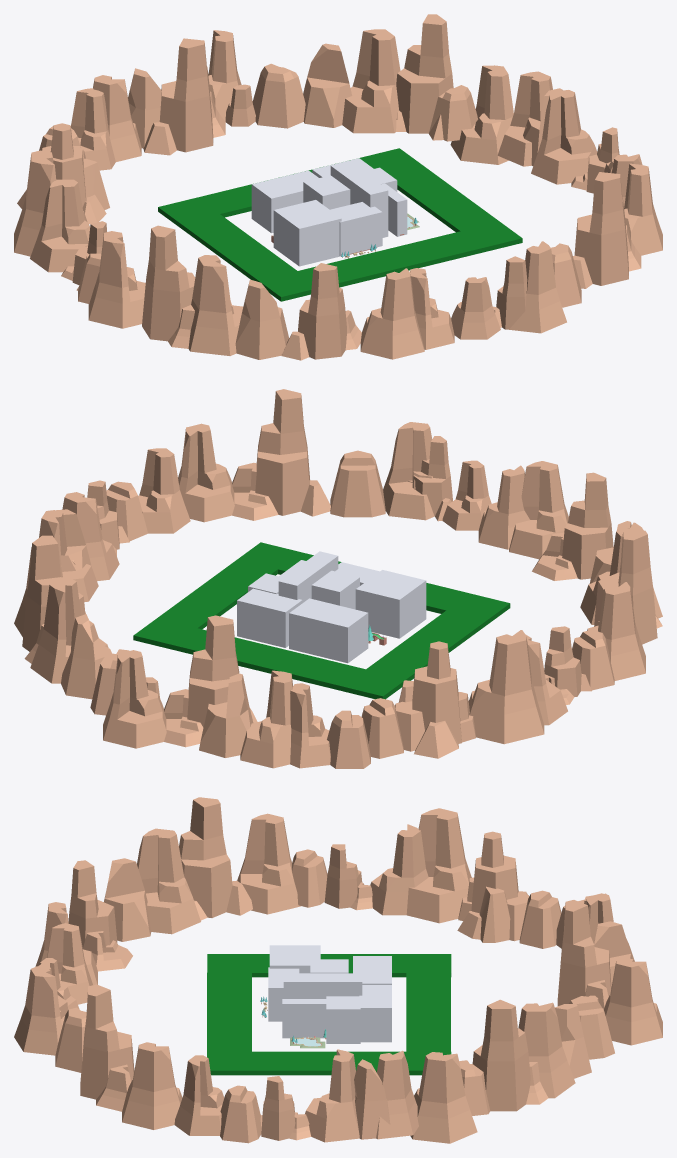
File: forest-server.glb
3 views of the same model, one above another, from view 1: azimuth 30°, elevation 25°; view 2: azimuth 150°, elevation 25°; view 3: azimuth 270°, elevation 25° (orthographic). The views are drawn at different scales.
Parts seen in each view (by area): view 1: rock_tallA_7, instanced_trees, rock_tallA_6, instanced_trees_2, rock_tallA_1, rock_tallA_5, rock_tallH_7, rock_tallA_4, rock_tallH_5, rock_tallH_12, instanced_trees_1, rock_tallH_6 (+33 smaller); view 2: rock_tallA_6, rock_tallB, rock_tallH_9, instanced_trees, instanced_trees_2, rock_tallA_7, rock_tallA_4, rock_tallH_16, bounds8, rock_tallH_15, instanced_trees_3, rock_tallH_3 (+32 smaller); view 3: rock_tallA_5, rock_tallB, rock_tallA_1, rock_tallH_9, rock_tallA_6, rock_tallH_5, rock_tallH_10, rock_tallH_4, instanced_trees_2, rock_tallA_7, rock_tallH_15, rock_tallH_16 (+34 smaller).
Boxes of the visible parts, x1=… form: rock_tallA_7: x1=143, y1=38, x2=225, y2=155; instanced_trees: x1=158, y1=197, x2=311, y2=301; rock_tallA_6: x1=573, y1=172, x2=641, y2=288; instanced_trees_2: x1=360, y1=148, x2=522, y2=252; rock_tallA_1: x1=396, y1=14, x2=453, y2=140; rock_tallA_5: x1=142, y1=225, x2=195, y2=348; rock_tallH_7: x1=342, y1=29, x2=400, y2=133; rock_tallA_4: x1=281, y1=263, x2=361, y2=360; rock_tallH_5: x1=188, y1=255, x2=242, y2=355; rock_tallH_12: x1=531, y1=90, x2=597, y2=184; instanced_trees_1: x1=298, y1=231, x2=484, y2=287; rock_tallH_6: x1=30, y1=179, x2=90, y2=272; rock_tallA_6: x1=232, y1=389, x2=330, y2=520; rock_tallB: x1=395, y1=641, x2=475, y2=758; rock_tallH_9: x1=468, y1=630, x2=544, y2=744; instanced_trees: x1=342, y1=593, x2=510, y2=699; instanced_trees_2: x1=133, y1=542, x2=299, y2=649; rock_tallA_7: x1=164, y1=615, x2=257, y2=747; rock_tallA_4: x1=532, y1=472, x2=613, y2=580; rock_tallH_16: x1=103, y1=650, x2=166, y2=748; bounds8: x1=289, y1=598, x2=368, y2=663; rock_tallH_15: x1=178, y1=423, x2=234, y2=522; instanced_trees_3: x1=173, y1=628, x2=366, y2=690; rock_tallH_3: x1=509, y1=461, x2=568, y2=559; rock_tallA_5: x1=179, y1=797, x2=252, y2=920; rock_tallB: x1=457, y1=831, x2=529, y2=942; rock_tallA_1: x1=472, y1=999, x2=548, y2=1111; rock_tallH_9: x1=406, y1=808, x2=471, y2=923; rock_tallA_6: x1=80, y1=984, x2=134, y2=1111; rock_tallH_5: x1=137, y1=828, x2=200, y2=934; rock_tallH_10: x1=237, y1=813, x2=300, y2=914; rock_tallH_4: x1=410, y1=1052, x2=477, y2=1143; instanced_trees_2: x1=207, y1=1051, x2=451, y2=1075; rock_tallA_7: x1=557, y1=900, x2=611, y2=1009; rock_tallH_15: x1=122, y1=1042, x2=182, y2=1129; rock_tallH_16: x1=604, y1=957, x2=662, y2=1045.
Bounding box in the file's own units: 123 × 24.28 × 128.
